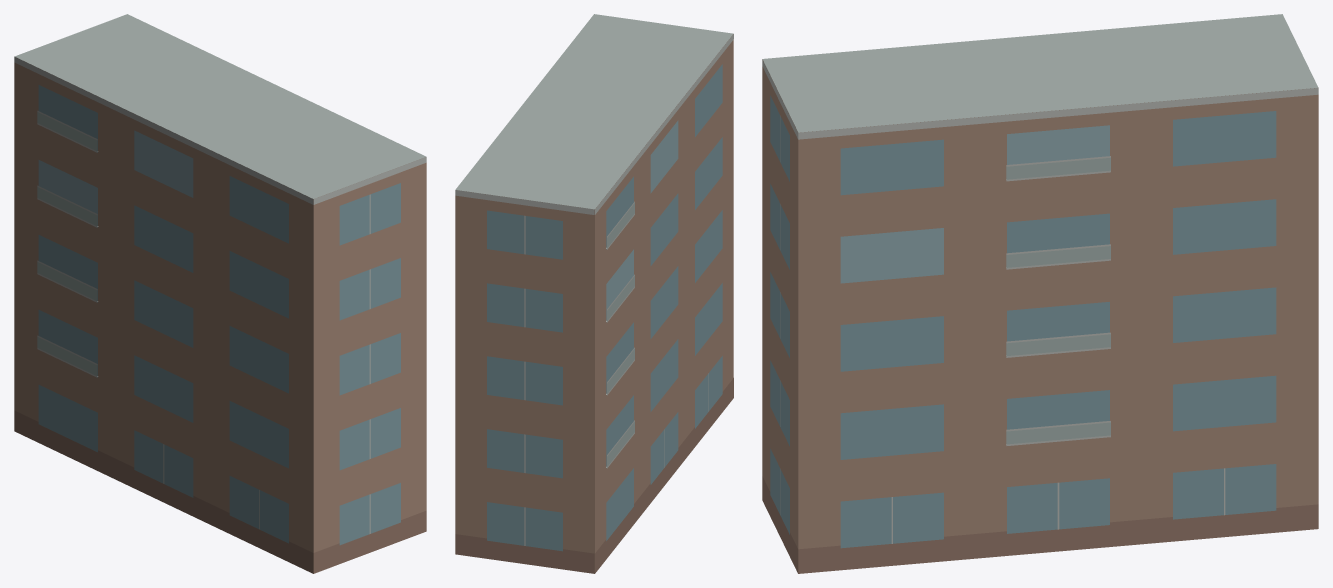
The model's file is survey-upis-32574255.glb.
3 views of the same model, side by side, from view 1: azimuth 30°, elevation 25°; view 2: azimuth 150°, elevation 25°; view 3: azimuth 270°, elevation 25° (orthographic). The views are drawn at different scales.
Parts seen in each view (by area): view 1: survey-upis-32574255.tmp; view 2: survey-upis-32574255.tmp; view 3: survey-upis-32574255.tmp.
Part boxes in pixels (x1,y1,x2,y2): survey-upis-32574255.tmp: [14, 14, 426, 573]; survey-upis-32574255.tmp: [455, 14, 733, 573]; survey-upis-32574255.tmp: [762, 14, 1318, 573].
Size of the model in its own units: 8.89 by 15.4 by 17.6.
